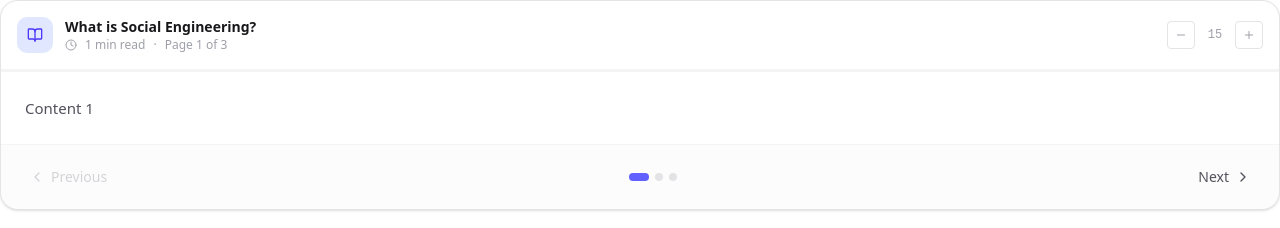
Test case: ContentReader Component › disables the Next button on the last page
Expected: the heading "What is Social Engineering?" is shown, [65,17,256,37]
Note: Go to the last page (page 3)
What coordinates should you click on to do the following:
click the button "Next"
I would click on:
 (1225, 177)
Its box is [1186,161,1263,193].
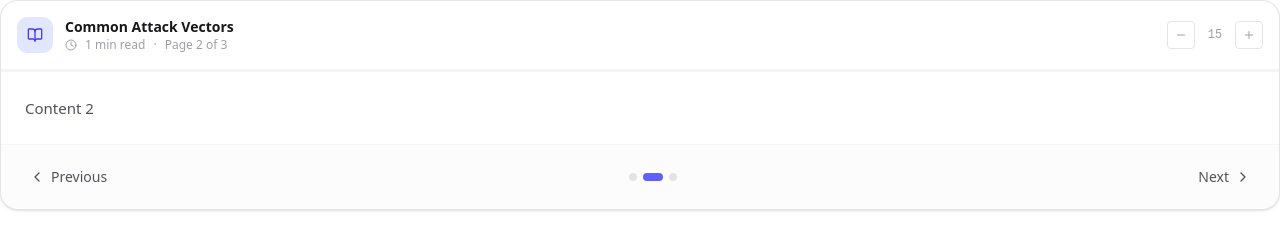
Expected: the heading "Common Attack Vectors" is shown, [65,17,234,37]
What coordinates should you click on to do the following:
click the button "Next"
I would click on:
 (1225, 177)
Its box is [1186,161,1263,193].
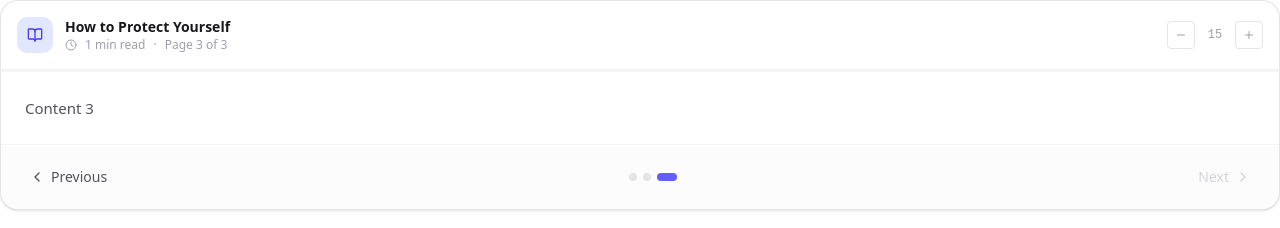
Expected: the heading "How to Protect Yourself" is shown, [65,17,230,37]
Expected: the button "Next" is disabled, [1186,161,1263,193]
